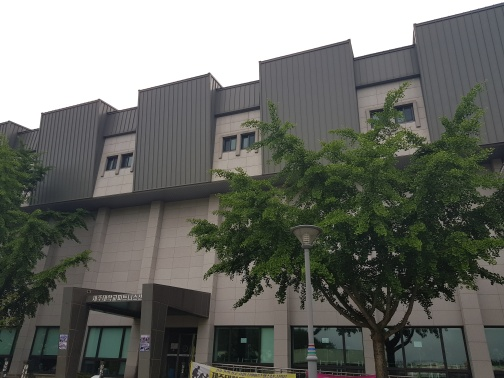Gym: (33, 31, 501, 371), (44, 39, 362, 210), (47, 271, 208, 375)
